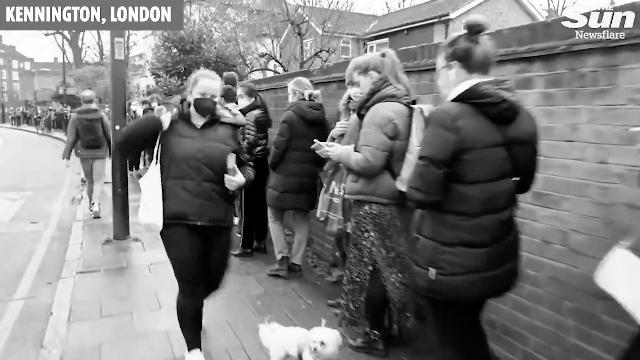berdiri: (402, 21, 548, 360), (322, 43, 421, 354), (257, 63, 331, 284)
